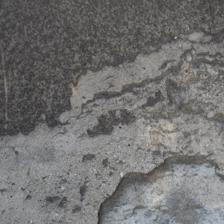Crack: (48, 77, 172, 147)
